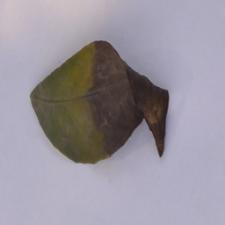Black: (28, 35, 189, 161)
